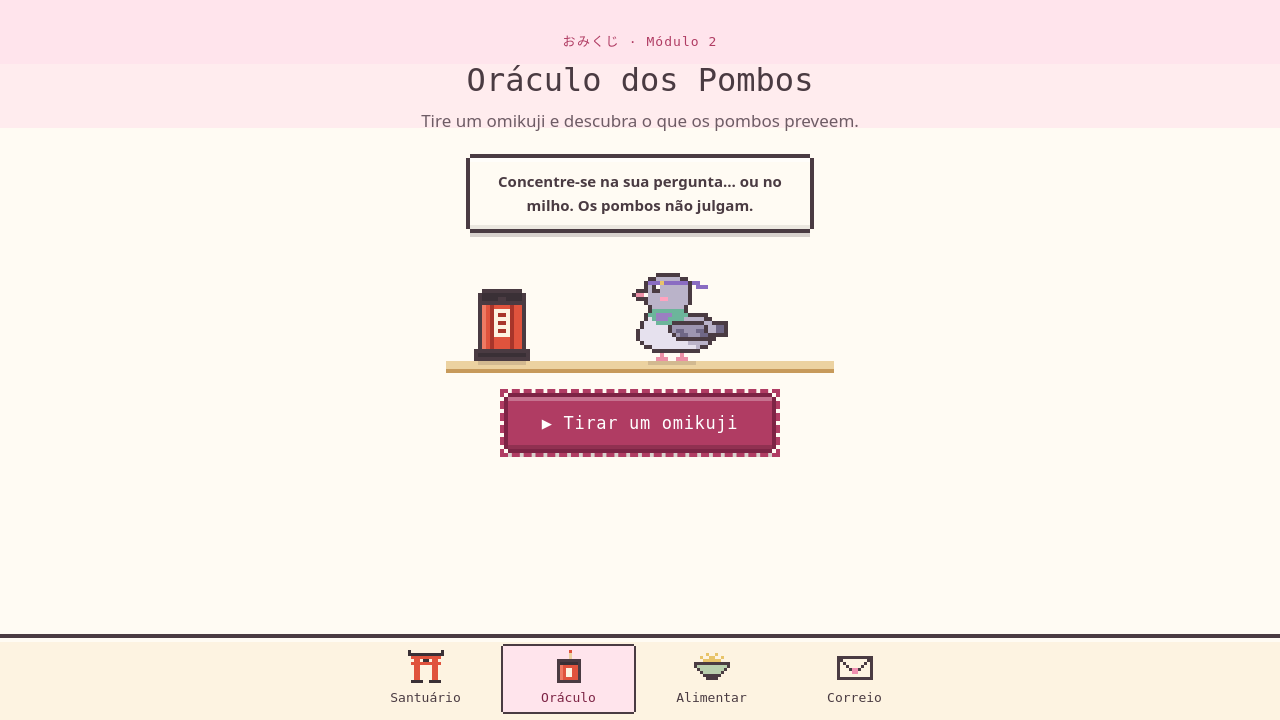
it: Oráculo dos Pombos › sacode a caixa, anuncia, e só então revela com foco no título da previsão
Click the button "▶ Tirar um omikuji" at (640, 423), box [508,397,772,449]
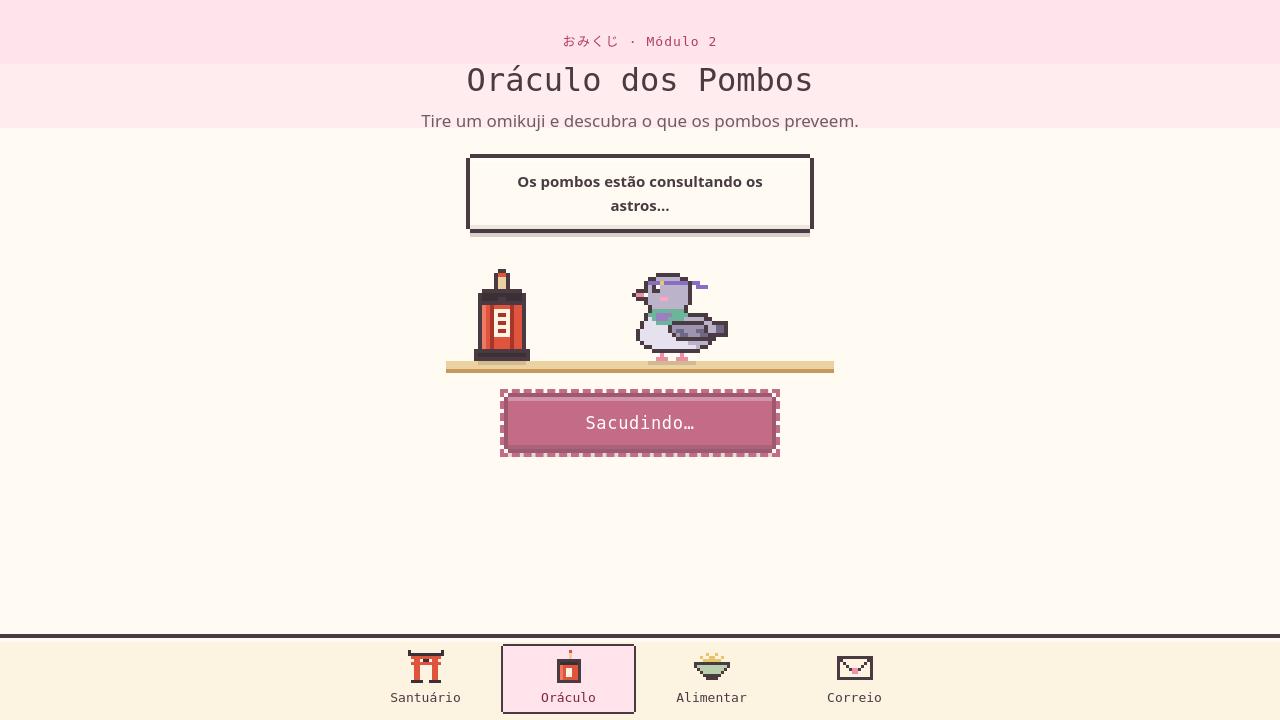
Check: the button named "tirar um omikuji" is disabled
Click the button named "tirar um omikuji" at (640, 423), box [508,397,772,449]
Wait 1000 ms
(page scrolled)
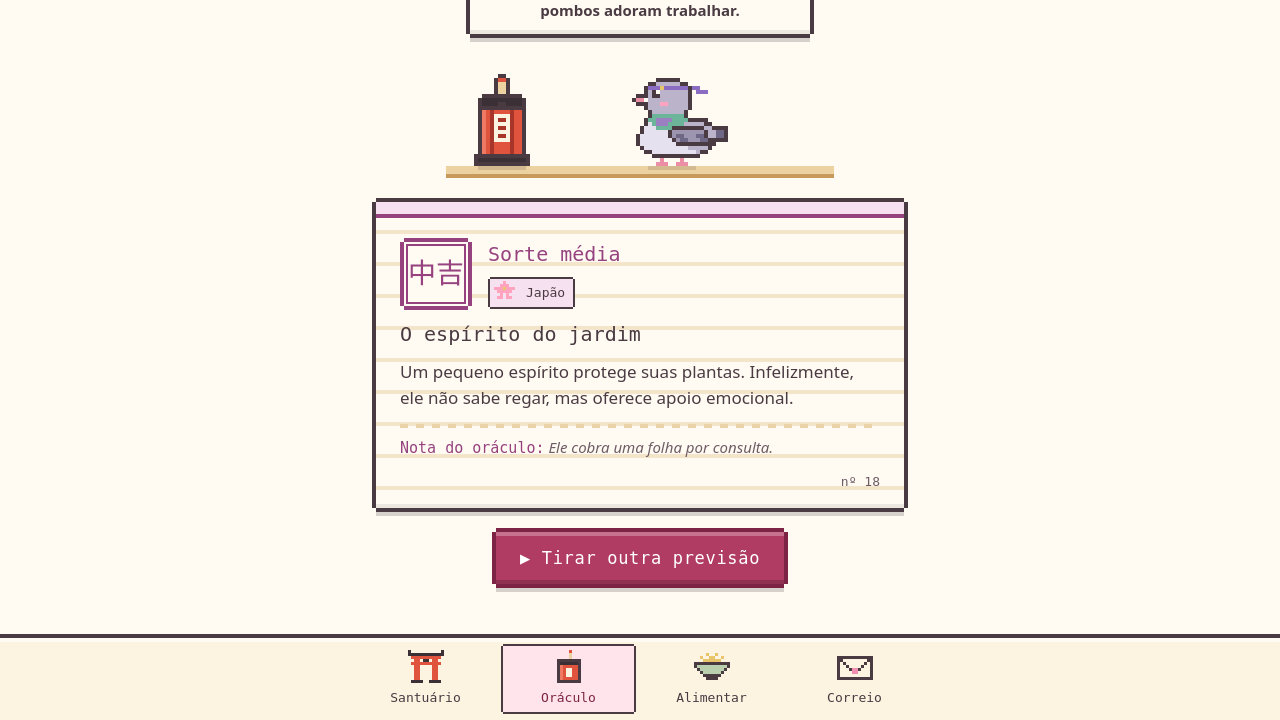
Check: the button named "tirar um omikuji" shows "Tirar outra previsão", box [496,532,784,584]
